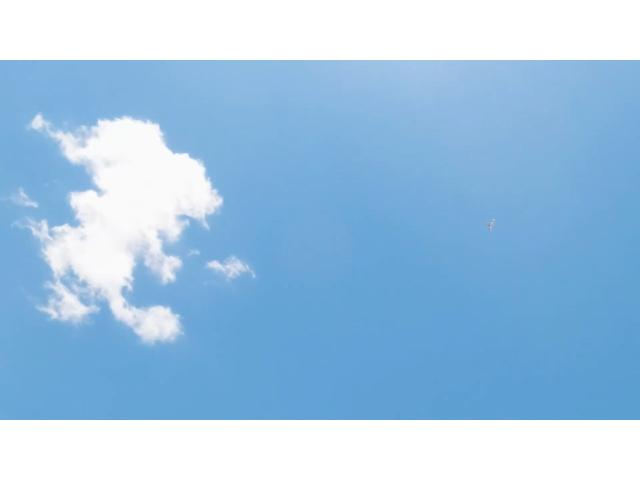Anti-Drone: (482, 212, 504, 234)
